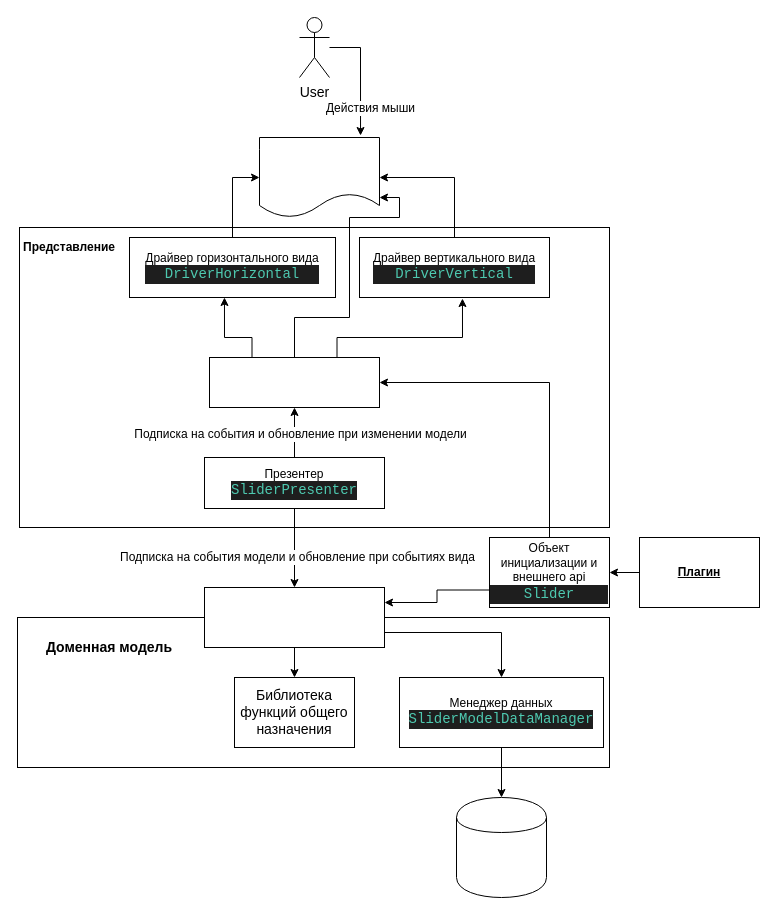
Image size: 777x915. Some labels were removed from this diagram. The shapes that lost their labels are listed below. From the top down, each one's box as (x1, y1, x2, y2) in pixels, then its label:
(258, 136, 380, 218): html + css
(208, 356, 380, 408): Вид SliderView
(204, 586, 384, 648): Модель SliderModel
(456, 796, 546, 898): Данные доменной модели
